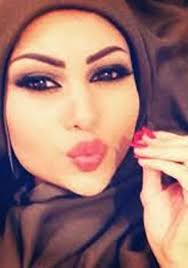middle_eastern_Female: (3, 3, 150, 196)
